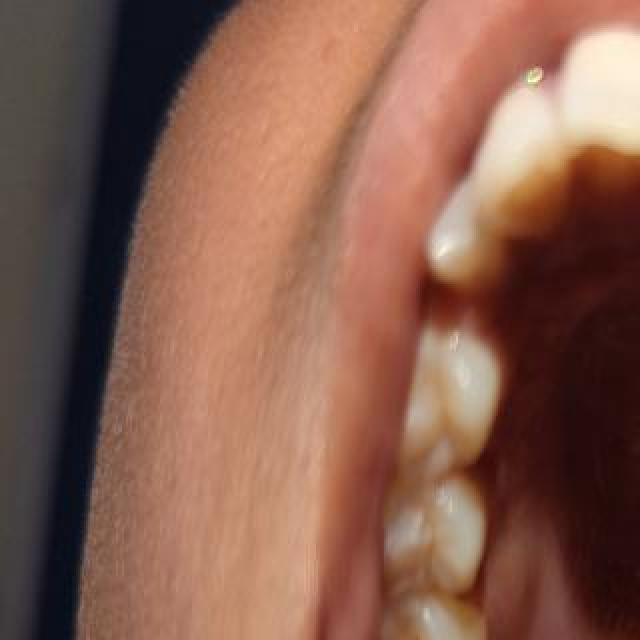spacing: (419, 275, 501, 381)
